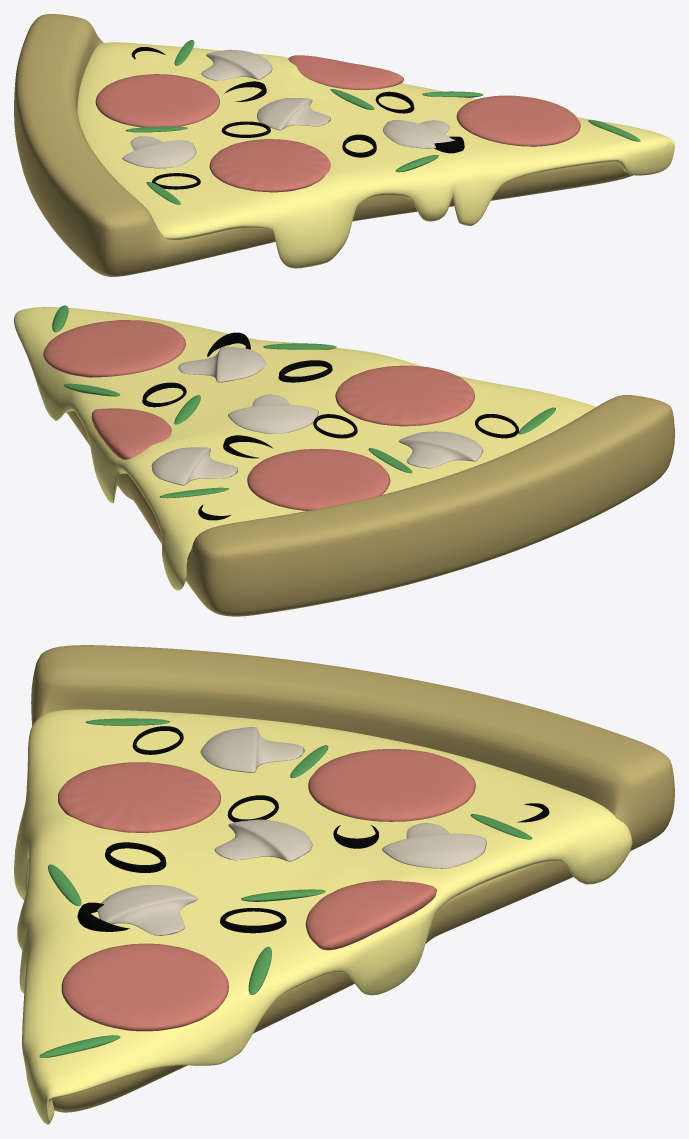
File: pizza_slice.fbx
3 views of the same model, one above another, from view 1: azimuth 30°, elevation 25°; view 2: azimuth 150°, elevation 25°; view 3: azimuth 270°, elevation 25° (orthographic). The views are drawn at different scales.
Parts seen in each view (by area): view 1: syr_syr_color_0, korka, kolbasa, grib, olivki, zelen; view 2: korka, syr_syr_color_0, kolbasa, grib, olivki, zelen; view 3: syr_syr_color_0, korka, kolbasa, grib, olivki, zelen.
Part boxes in pixels (x1,y1,x2,y2): syr_syr_color_0: [77, 42, 674, 268]; korka: [14, 14, 632, 276]; kolbasa: [95, 55, 580, 192]; grib: [122, 49, 453, 168]; olivki: [131, 47, 464, 189]; zelen: [125, 40, 640, 204]; korka: [67, 395, 674, 616]; syr_syr_color_0: [14, 307, 595, 590]; kolbasa: [43, 320, 474, 510]; grib: [151, 346, 483, 485]; olivki: [142, 332, 518, 520]; zelen: [52, 305, 555, 498]; syr_syr_color_0: [14, 709, 632, 1124]; korka: [31, 645, 674, 1112]; kolbasa: [58, 749, 475, 1031]; grib: [97, 726, 486, 935]; olivki: [77, 726, 549, 933]; zelen: [39, 718, 532, 1057].
Bounding box in the file's own units: 3.4 × 0.5143 × 2.52.
